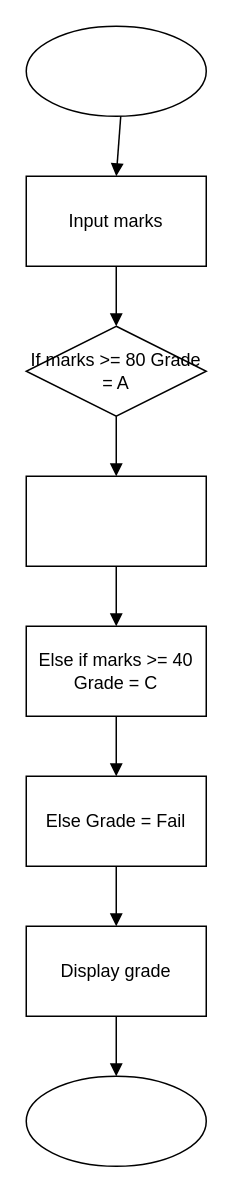
Some shapes in this 233 by 1193 pixel diagram are drawn without their labels. The shapes that lost their labels are listed below. From the top down, each one's centre as x and y in pixels, then its label:
(115,70): Start
(115,520): Else if marks >= 60 Grade = B
(115,1120): End
